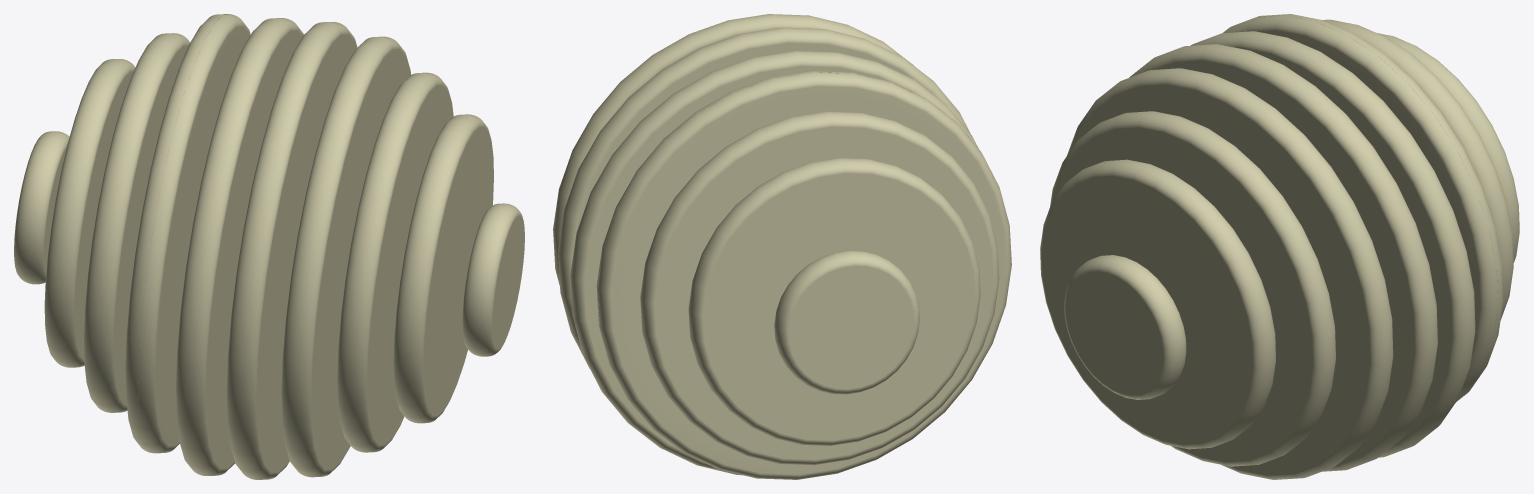
3 renders of one model, left to right at view 1: azimuth 30°, elevation 25°; view 2: azimuth 150°, elevation 25°; view 3: azimuth 270°, elevation 25°, orthographic. The views are drawn at different scales.
Visible parts, largest first — view 1: Cylinder005.001, Cylinder004.001, Cylinder005.002, Cylinder009.001, Cylinder003.001, Cylinder002.001, Cylinder008.001, Cylinder007.001, Cylinder001.001, Cylinder006.001; view 2: Cylinder007.001, Cylinder009.001, Cylinder008.001, Cylinder006.001, Cylinder005.002, Cylinder005.001, Cylinder004.001; view 3: Cylinder002.001, Cylinder004.001, Cylinder003.001, Cylinder005.001, Cylinder005.002, Cylinder009.001, Cylinder001.001, Cylinder008.001, Cylinder007.001.
Part boxes in pixels (x1,y1,x2,y2): Cylinder005.001: [226, 22, 357, 479]; Cylinder004.001: [281, 36, 410, 477]; Cylinder005.002: [176, 18, 303, 475]; Cylinder009.001: [125, 14, 250, 453]; Cylinder003.001: [337, 72, 453, 452]; Cylinder002.001: [393, 114, 493, 423]; Cylinder008.001: [84, 33, 190, 412]; Cylinder007.001: [44, 59, 135, 367]; Cylinder001.001: [462, 203, 524, 356]; Cylinder006.001: [14, 131, 69, 284]; Cylinder007.001: [688, 158, 980, 445]; Cylinder009.001: [596, 71, 1011, 479]; Cylinder008.001: [640, 111, 999, 465]; Cylinder006.001: [774, 250, 919, 394]; Cylinder005.002: [570, 50, 978, 475]; Cylinder005.001: [558, 27, 970, 368]; Cylinder004.001: [553, 14, 913, 285]; Cylinder002.001: [1040, 159, 1275, 449]; Cylinder004.001: [1067, 68, 1393, 479]; Cylinder003.001: [1050, 111, 1335, 466]; Cylinder005.001: [1129, 44, 1437, 471]; Cylinder005.002: [1191, 31, 1475, 457]; Cylinder009.001: [1222, 14, 1503, 401]; Cylinder001.001: [1064, 255, 1186, 399]; Cylinder008.001: [1323, 19, 1513, 319]; Cylinder007.001: [1377, 33, 1519, 262].
Size of the model in its own units: 2.39 by 2.28 by 2.38.
